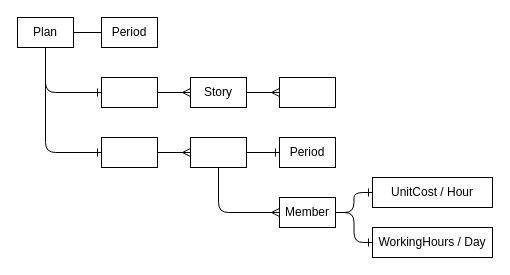
The diagram is 510 pixels wide and 275 high, and some of its shapes have lost their labels. The shapes that lost their labels are listed below. From the top down, each one's centre as x and y in pixels, then its label:
At pixel 129 92: "Scope".
At pixel 307 92: "Task".
At pixel 129 152: "Resource".
At pixel 218 152: "Resource Entry".
